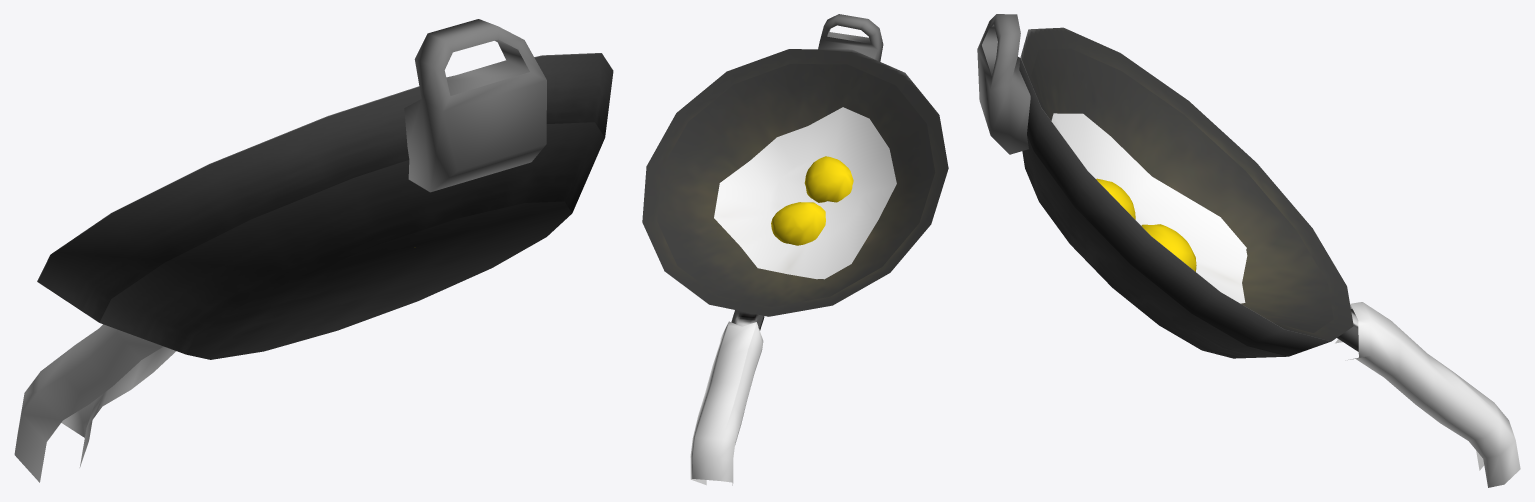
The model's file is C_WokPan_Eggs.fbx.
The picture shows the model from 3 angles, left to right: view 1: azimuth 30°, elevation 25°; view 2: azimuth 150°, elevation 25°; view 3: azimuth 270°, elevation 25°; orthographic projection. The views are drawn at different scales.
Parts seen in each view (by area): view 1: FriedEgg; view 2: FriedEgg; view 3: FriedEgg.
Boxes of the visible parts, x1=… form: FriedEgg: x1=14, y1=19, x2=613, y2=482; FriedEgg: x1=642, y1=14, x2=948, y2=485; FriedEgg: x1=977, y1=14, x2=1520, y2=487.
Size of the model in its own units: 53.6 by 63.19 by 64.65.
